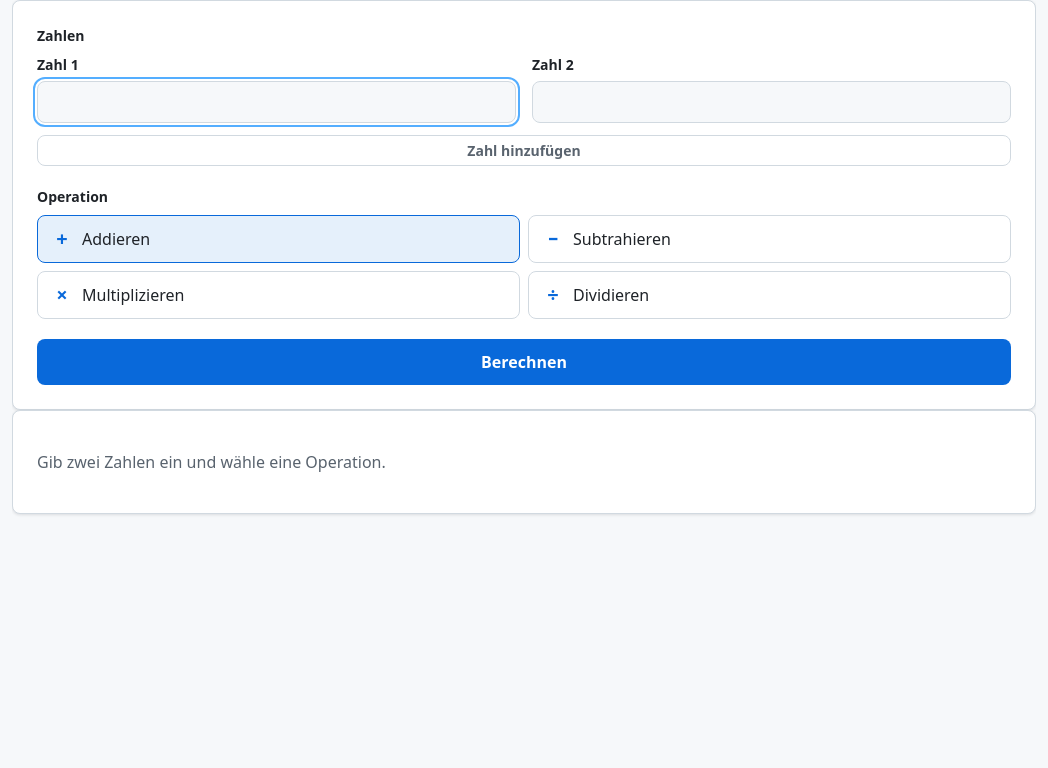
Scenario: Calculator › sends the chosen operation and renders the exact result
The width and height of the screenshot is (1048, 768).
Type "1" into the field labelled "Zahl 1" at (276, 102), box [37,81,516,123]
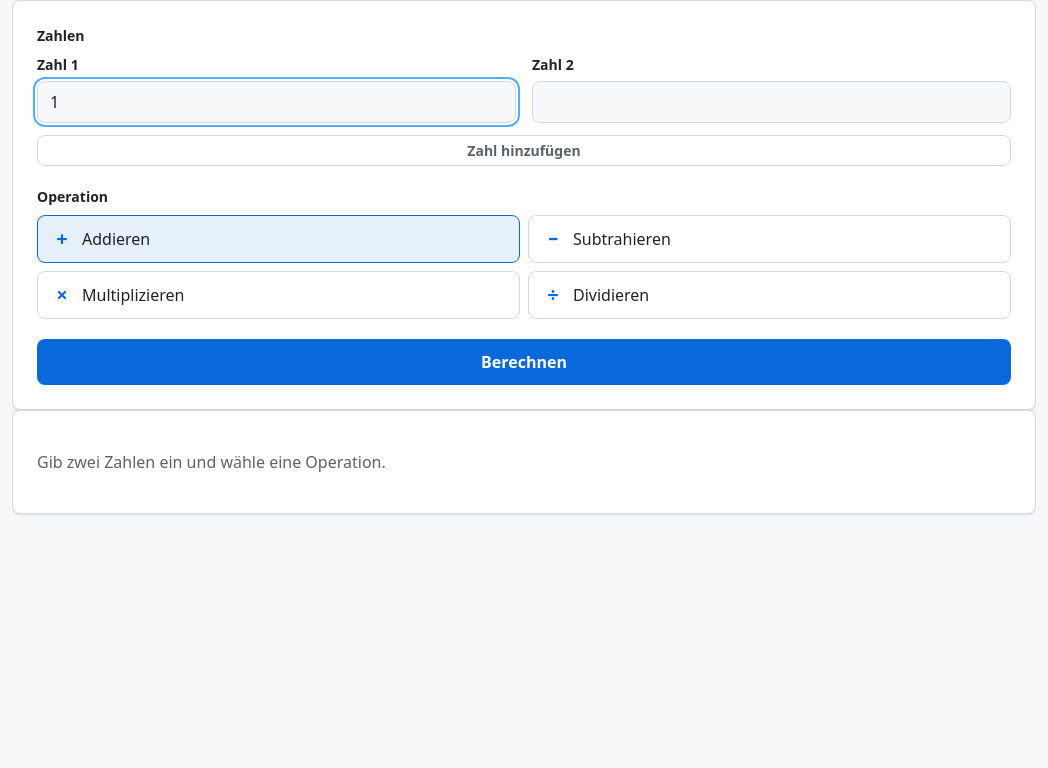
Type "3" into the field labelled "Zahl 2" at (772, 102), box [532,81,1011,123]
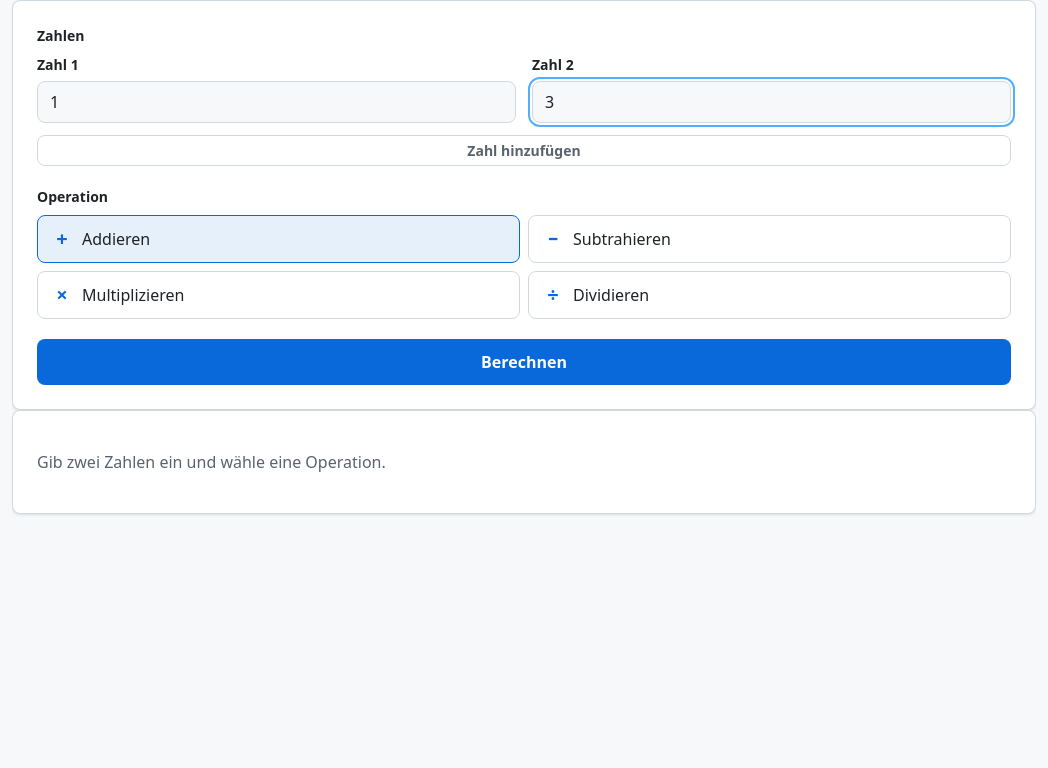
Click the radio button labelled "Dividieren" at (611, 295), box [528,271,1011,319]
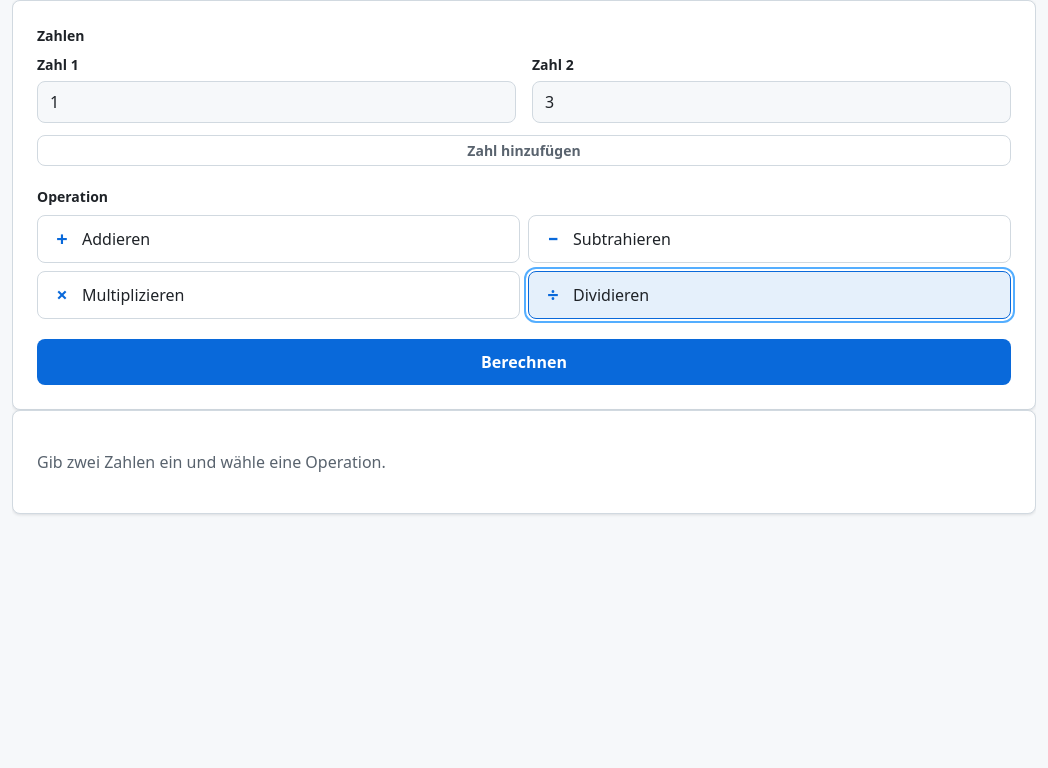
Click the button "Berechnen" at (524, 362), box [37,339,1011,385]
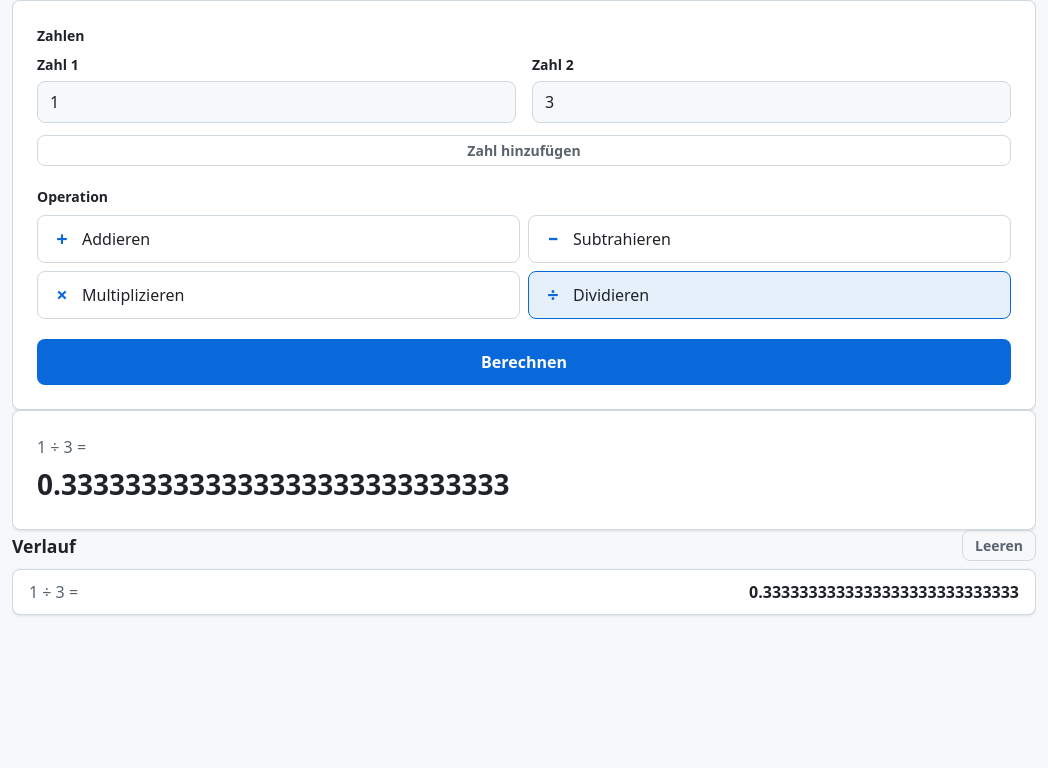
expect the text with test id "result-value" reads "0.3333333333333333333333333333": met, box [37,465,510,503]
expect the 1st text "1 ÷ 3 =" is shown: met, box [37,436,86,458]
